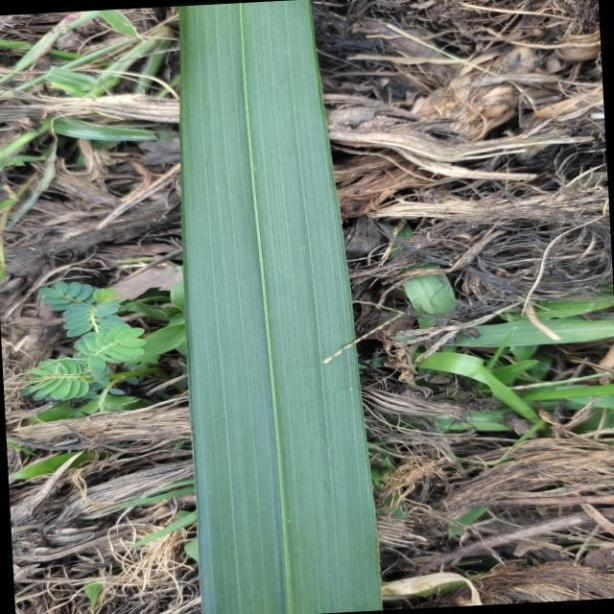Healthy: (174, 5, 384, 614)
